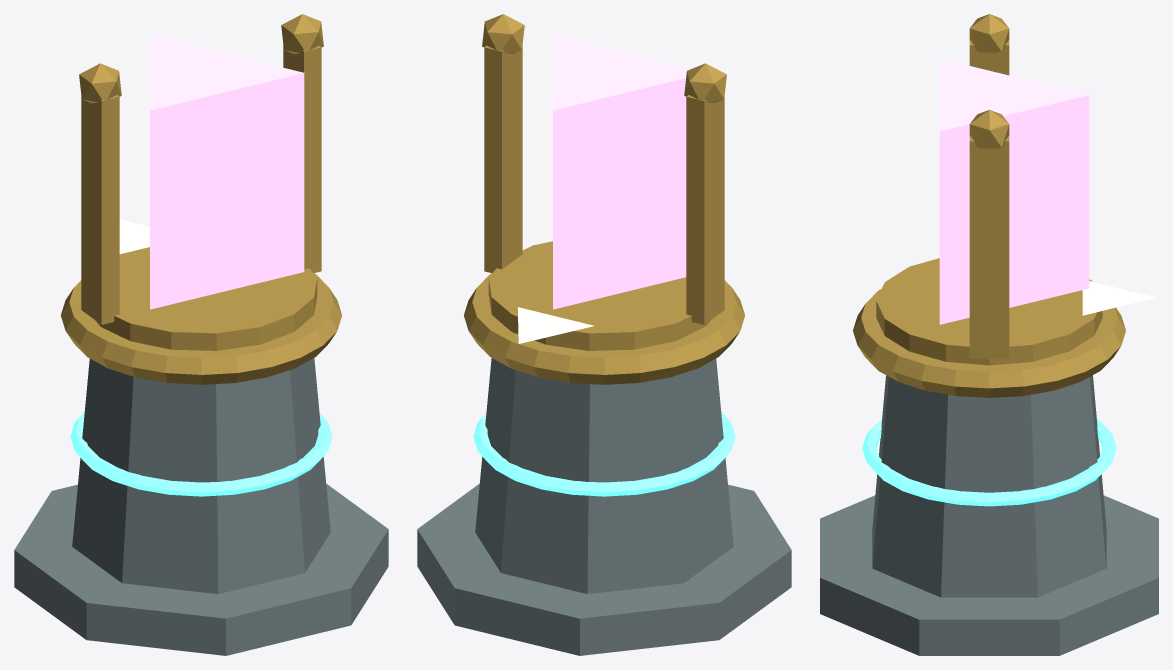
The model's file is prism.glb.
3 views of the same model, side by side, from view 1: azimuth 30°, elevation 25°; view 2: azimuth 150°, elevation 25°; view 3: azimuth 270°, elevation 25° (orthographic). The views are drawn at different scales.
Parts seen in each view (by area): view 1: PrismBase, PrismHead; view 2: PrismBase, PrismHead; view 3: PrismBase, PrismHead.
Part boxes in pixels (<box>): PrismBase: <box>14,273,388,655</box>; PrismHead: <box>79,14,323,350</box>; PrismBase: <box>417,273,791,655</box>; PrismHead: <box>482,14,726,350</box>; PrismBase: <box>820,289,1158,655</box>; PrismHead: <box>876,14,1155,365</box>.
Bounding box in the file's own units: 1.02 × 1.73 × 1.02.
